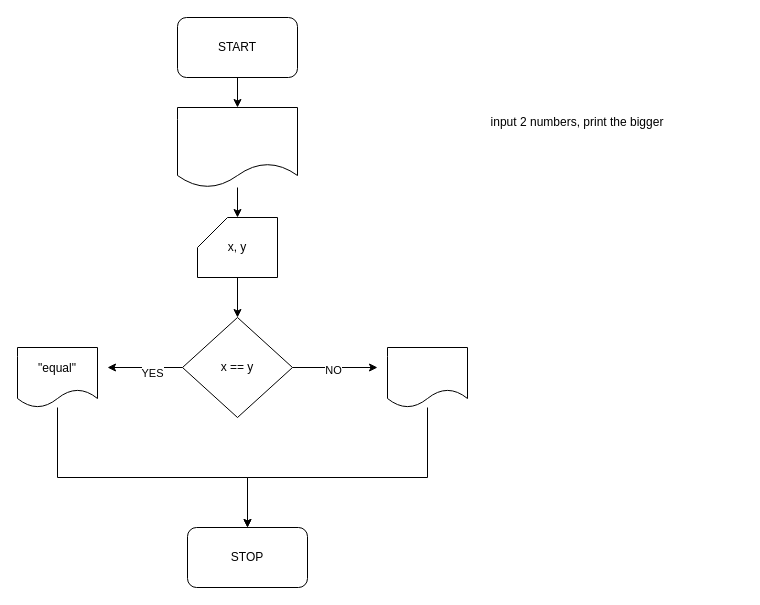
Some shapes in this 760 by 605 pixel diagram are drawn without their labels. The centre of each missing label's shape, as x and y in pixels:
"different": [427,377]
"Please enter 2 numbers": [237,147]
